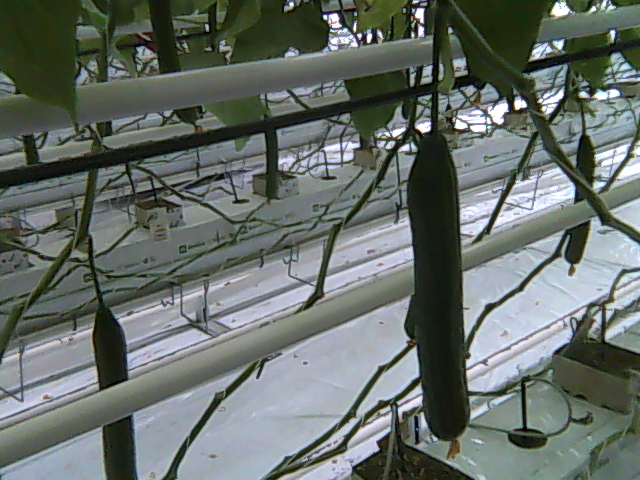concombre: (403, 119, 476, 461)
